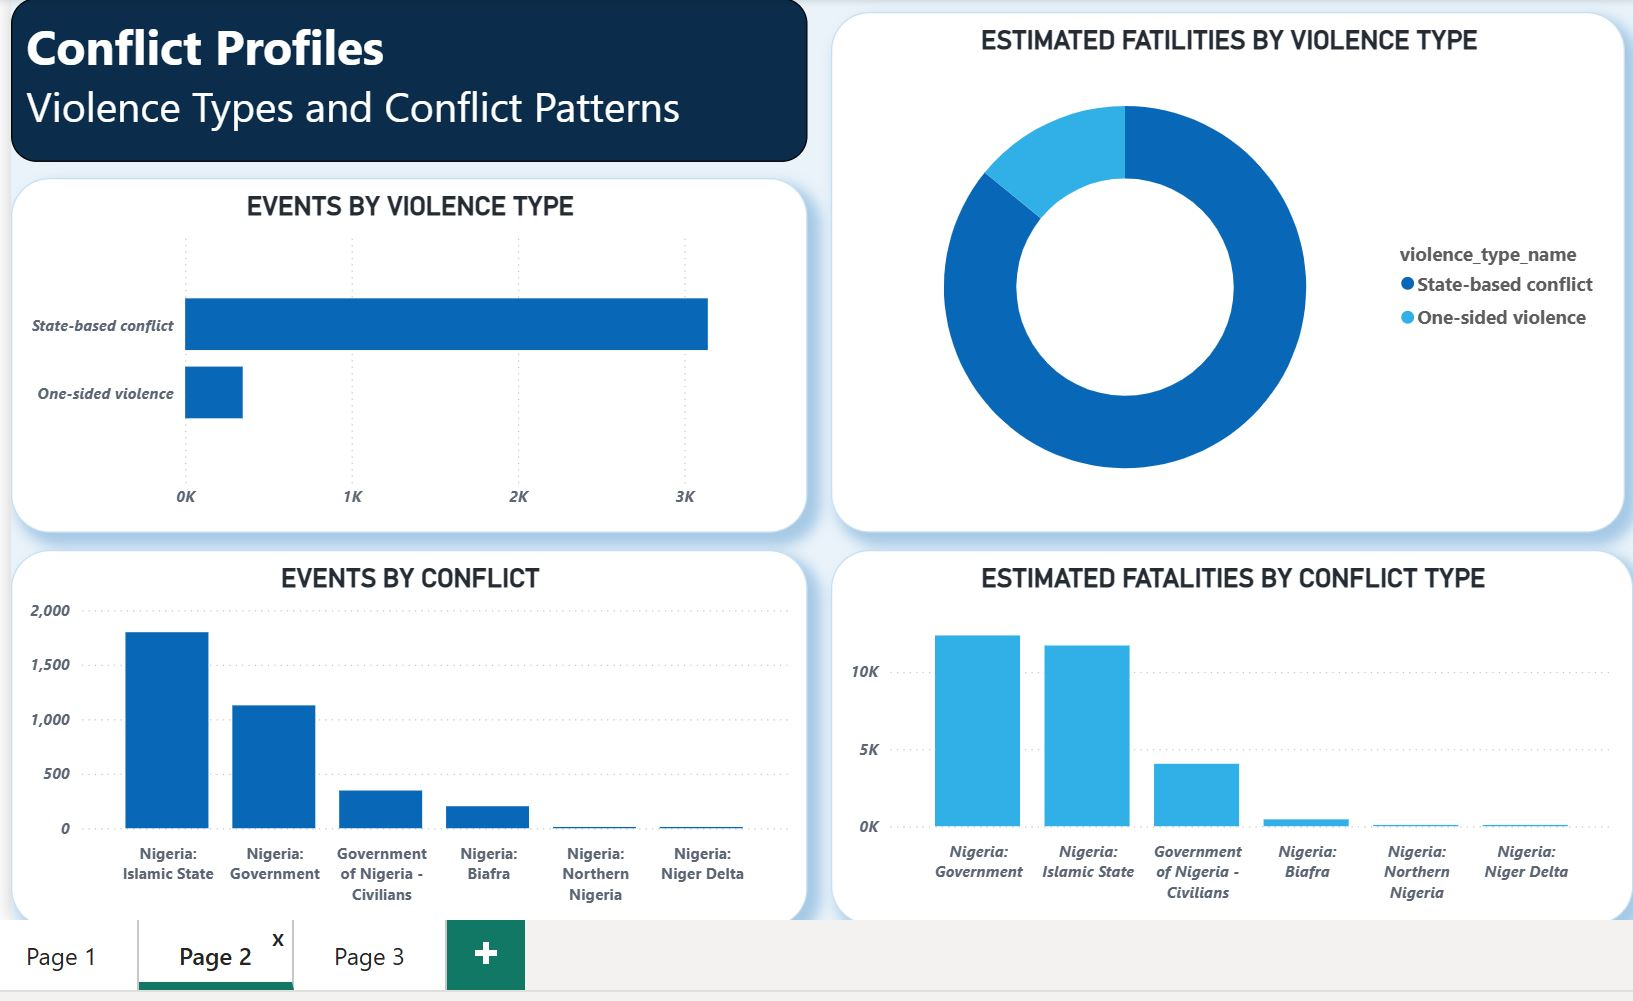

The dashboard page shown, as its layout file describes it:
{"tool":"powerbi","page":{"name":"Page 2","canvas":[1280,720],"ordinal":1},"visuals":[{"type":"clusteredBarChart","title":"EVENTS BY VIOLENCE TYPE","fields":{"Category":["nigeria_conflict_database violence_types.violence_type_name"],"Y":["CountNonNull(nigeria_conflict_database nigeria_conflict_events.conflict_id)"]},"box":[0,140.8,621.8,276.9],"z":0},{"type":"donutChart","title":"ESTIMATED FATILITIES BY VIOLENCE TYPE","fields":{"Category":["nigeria_conflict_database violence_types.violence_type_name"],"Y":["Sum(nigeria_conflict_database nigeria_conflict_events.best_fatality_estimate)"]},"box":[640.8,11.1,620.2,406.6],"z":1000},{"type":"clusteredColumnChart","title":"EVENTS BY CONFLICT","fields":{"Category":["nigeria_conflict_database conflicts.conflict_name"],"Y":["CountNonNull(nigeria_conflict_database nigeria_conflict_events.conflict_id)"]},"box":[0,430.4,621.8,294.3],"z":2000},{"type":"clusteredColumnChart","title":"ESTIMATED FATALITIES BY CONFLICT TYPE","fields":{"Category":["nigeria_conflict_database conflicts.conflict_name"],"Y":["Sum(nigeria_conflict_database nigeria_conflict_events.best_fatality_estimate)"]},"box":[640.8,430.4,626.6,292.7],"z":3000},{"type":"textbox","box":[0,0,621.8,128.2],"z":5000}]}

Visuals, with their boxes on the page's 1280x720 design canvas (x1, y1, x2, y2). These are canvas units, not pixel positions in the 1633x1001 screenshot, which may show the page scaled, cropped or inside an application window:
"EVENTS BY VIOLENCE TYPE" clusteredBarChart: <bbox>0, 141, 622, 418</bbox>
"ESTIMATED FATILITIES BY VIOLENCE TYPE" donutChart: <bbox>641, 11, 1261, 418</bbox>
"EVENTS BY CONFLICT" clusteredColumnChart: <bbox>0, 430, 622, 725</bbox>
"ESTIMATED FATALITIES BY CONFLICT TYPE" clusteredColumnChart: <bbox>641, 430, 1267, 723</bbox>
textbox: <bbox>0, 0, 622, 128</bbox>
